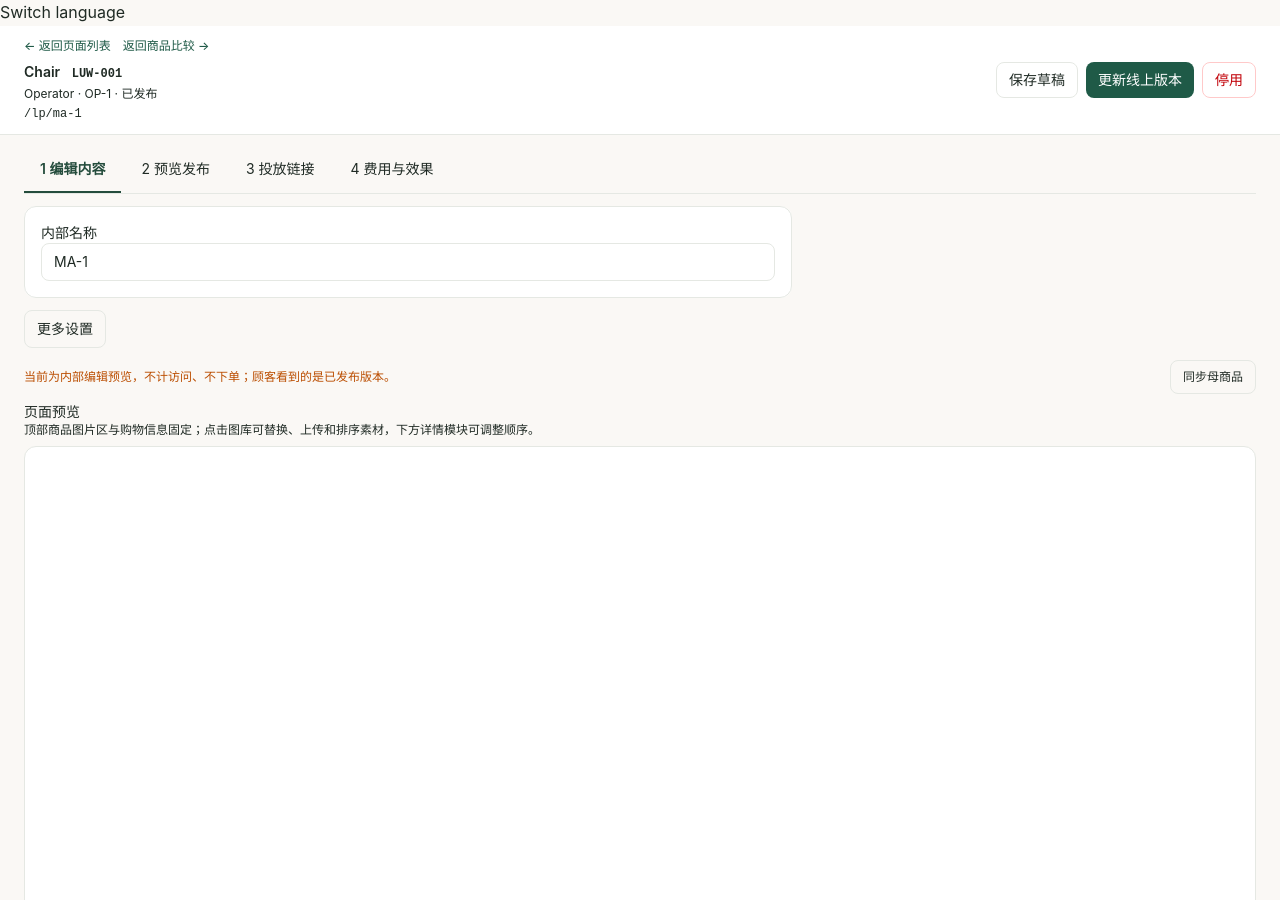
Test: marketing page editing › syncs only selected source keys against the saved version without publishing
Expected: the text "LUW-001" is shown, x1=72 y1=67 x2=122 y2=81
Click the button "同步母商品" at (1213,377), box x1=1170 y1=360 x2=1256 y2=394
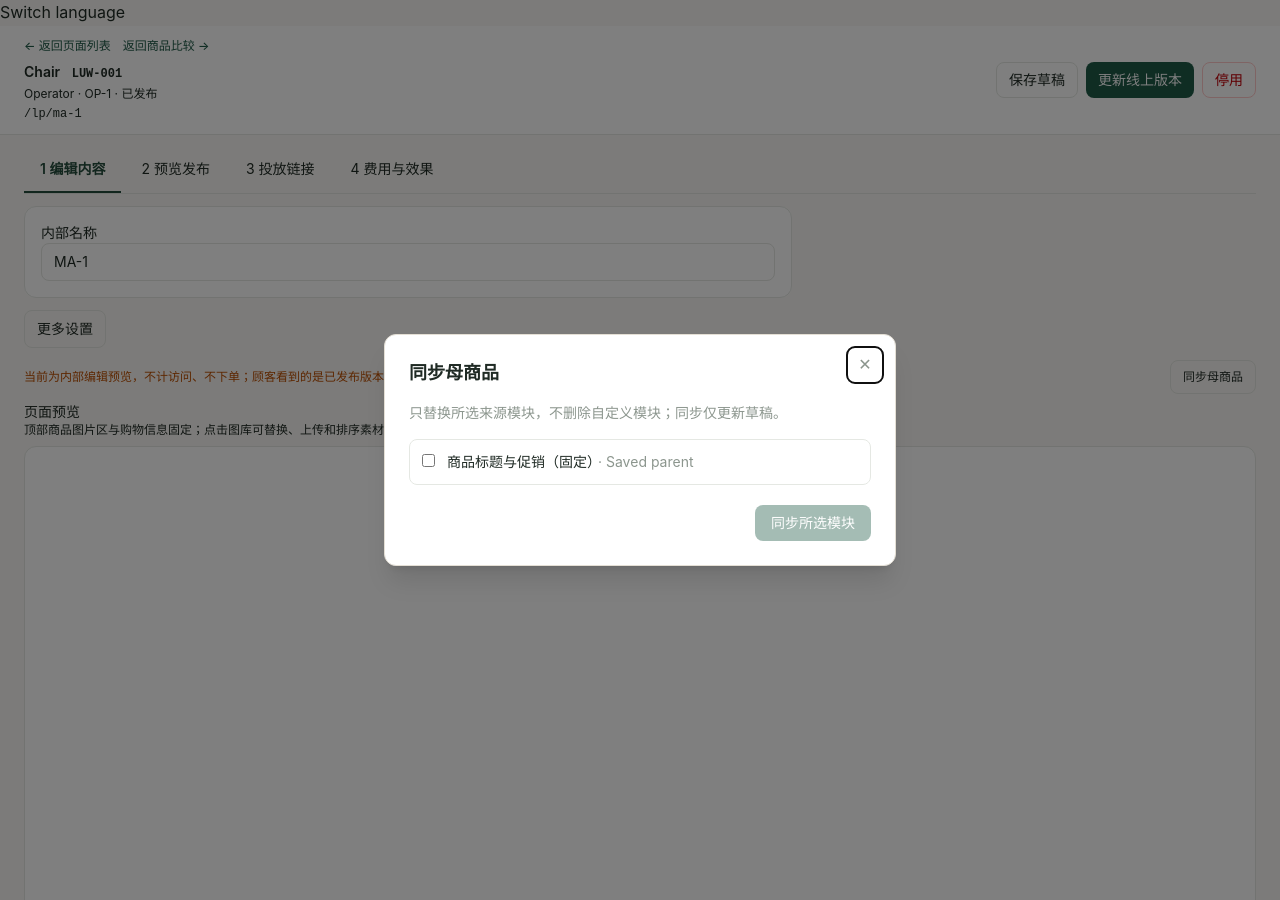
Click the checkbox labelled "商品标题与促销（固定）· Saved parent" at (428,460), box x1=422 y1=454 x2=435 y2=467
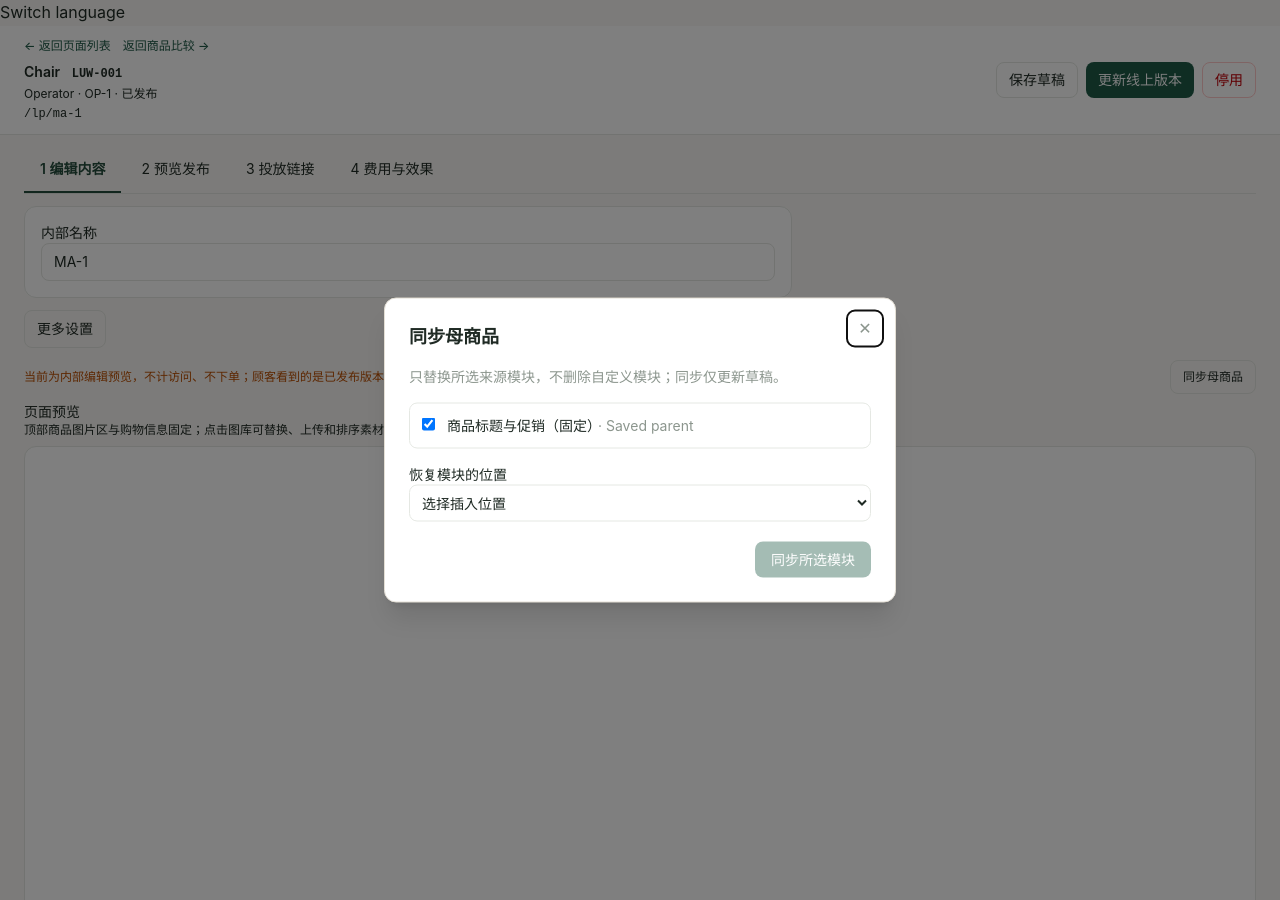
Select "1 · 实时购物信息（固定）" in the dropdown labelled "恢复模块的位置" at (640,503), box x1=409 y1=484 x2=871 y2=522
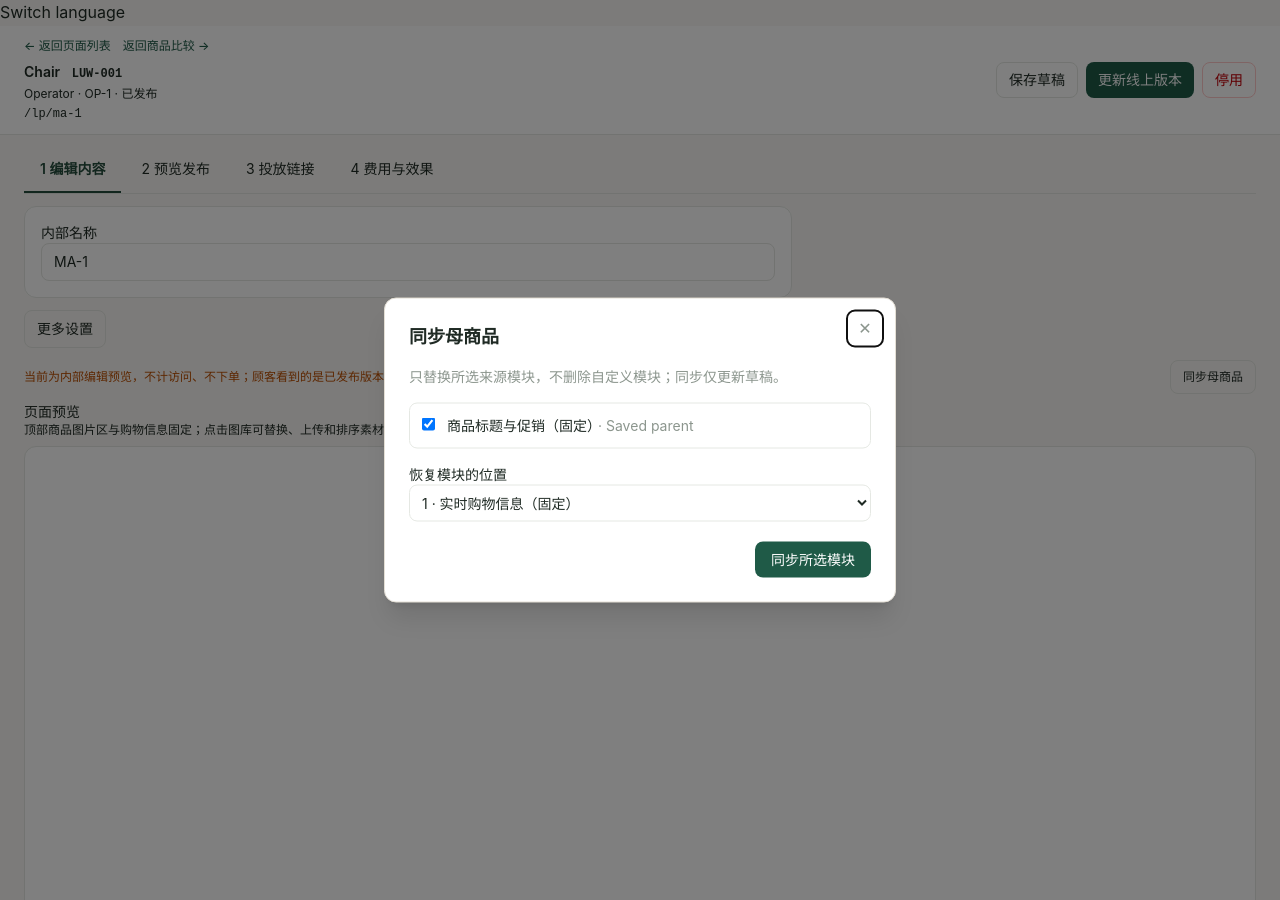
Click the button "同步所选模块" at (813,560), box x1=755 y1=542 x2=871 y2=578
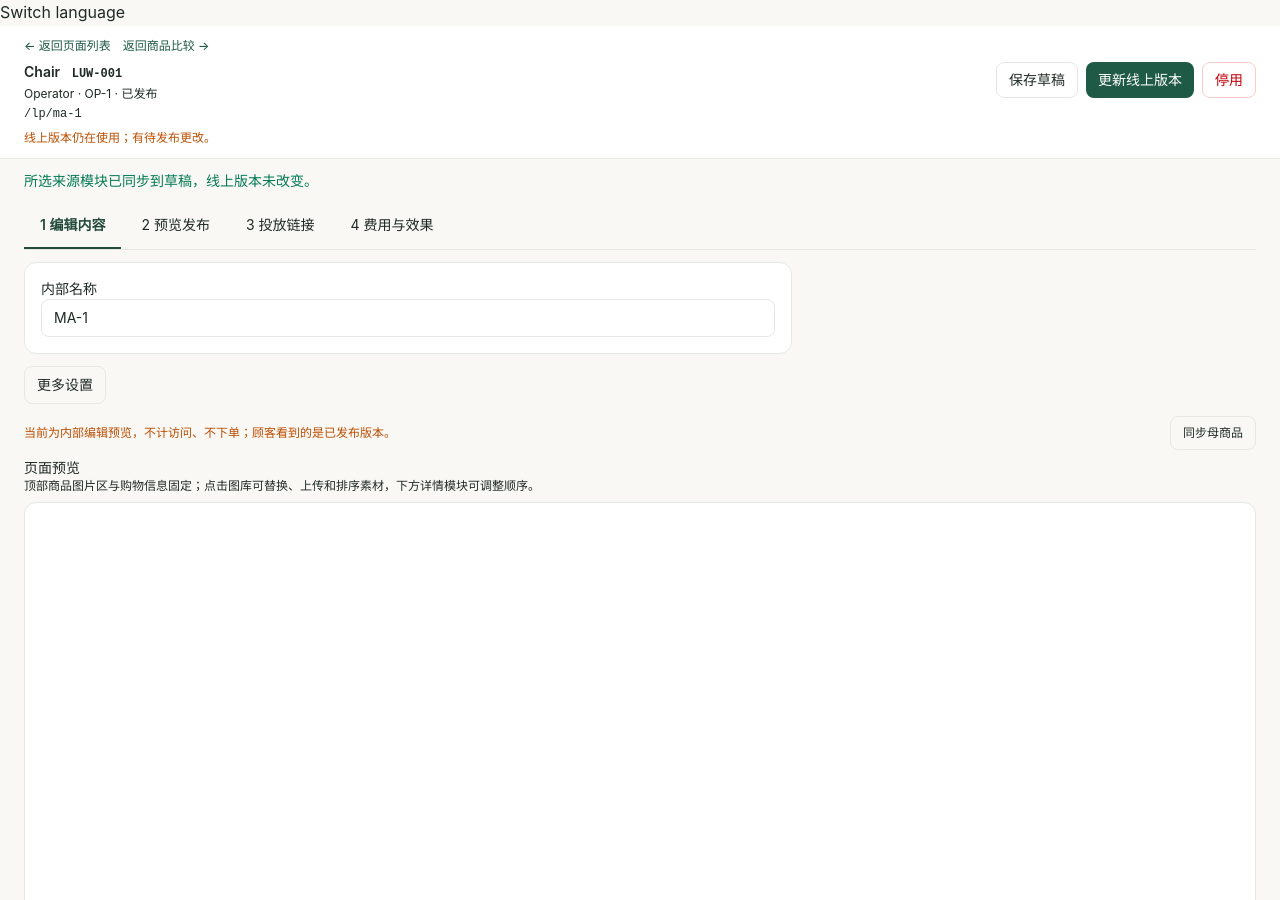
Result: the text "线上版本仍在使用；有待发布更改。" is shown at x1=24 y1=130 x2=216 y2=145
